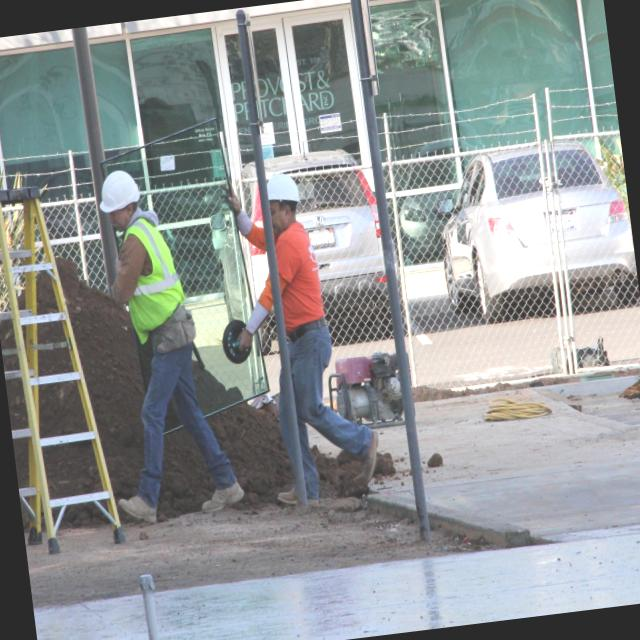helmet: (96, 167, 148, 216), (262, 172, 304, 215)
vest: (115, 213, 192, 350)
